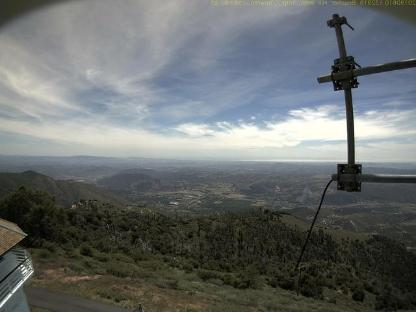smoke: (294, 187, 326, 205)
